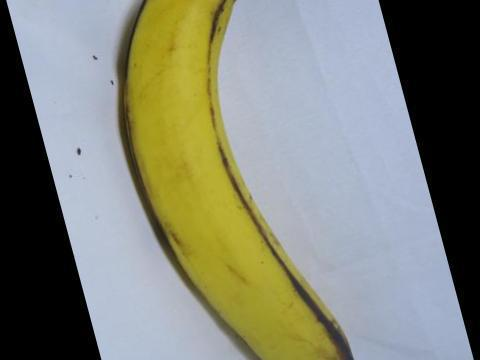ripe: (102, 0, 380, 359)
